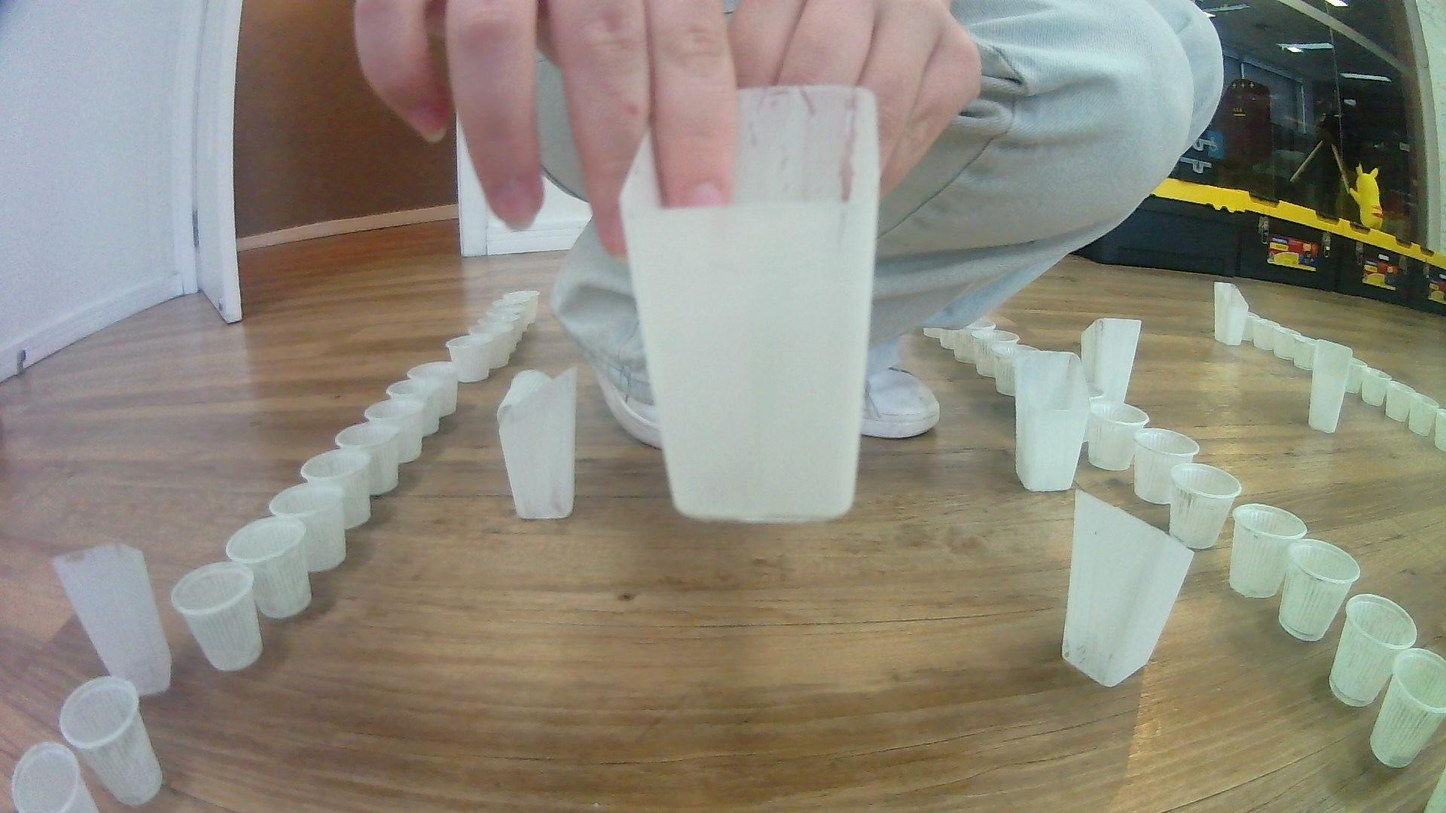erva_daninha: (618, 84, 881, 524), (1062, 488, 1195, 688), (51, 541, 172, 699), (496, 364, 579, 522), (1014, 349, 1090, 493), (1080, 316, 1143, 412), (1307, 337, 1354, 434), (1213, 282, 1249, 346)
planta: (58, 675, 165, 805), (170, 559, 264, 672), (1329, 592, 1420, 708), (1368, 647, 1446, 770), (224, 513, 313, 620), (1277, 537, 1361, 641), (1228, 503, 1307, 598), (269, 481, 347, 574), (10, 742, 105, 813), (1168, 462, 1242, 550), (300, 446, 375, 528), (1132, 427, 1200, 506), (334, 423, 401, 495), (1085, 402, 1150, 471), (363, 398, 425, 464), (386, 379, 442, 436), (407, 361, 459, 418), (992, 339, 1043, 395), (445, 332, 493, 382), (975, 329, 1021, 378), (471, 320, 510, 368), (478, 311, 523, 352), (954, 329, 994, 363), (499, 290, 540, 323), (488, 300, 530, 332), (1408, 394, 1438, 437), (1360, 367, 1391, 406), (1386, 380, 1414, 421), (1246, 312, 1276, 349), (1289, 333, 1317, 371), (1265, 324, 1295, 359), (938, 325, 973, 352), (1345, 357, 1365, 392), (1433, 410, 1446, 454), (967, 316, 996, 333), (921, 327, 945, 337)
